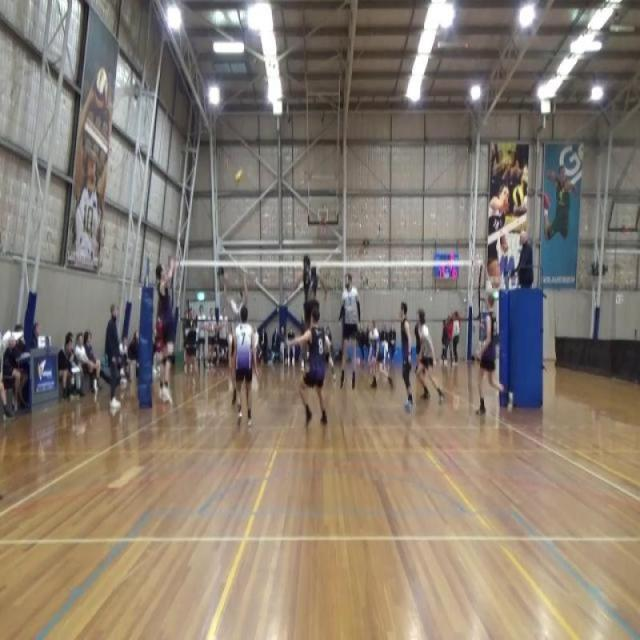volleyball: (94, 66, 110, 112), (512, 184, 525, 208), (234, 167, 243, 184)
